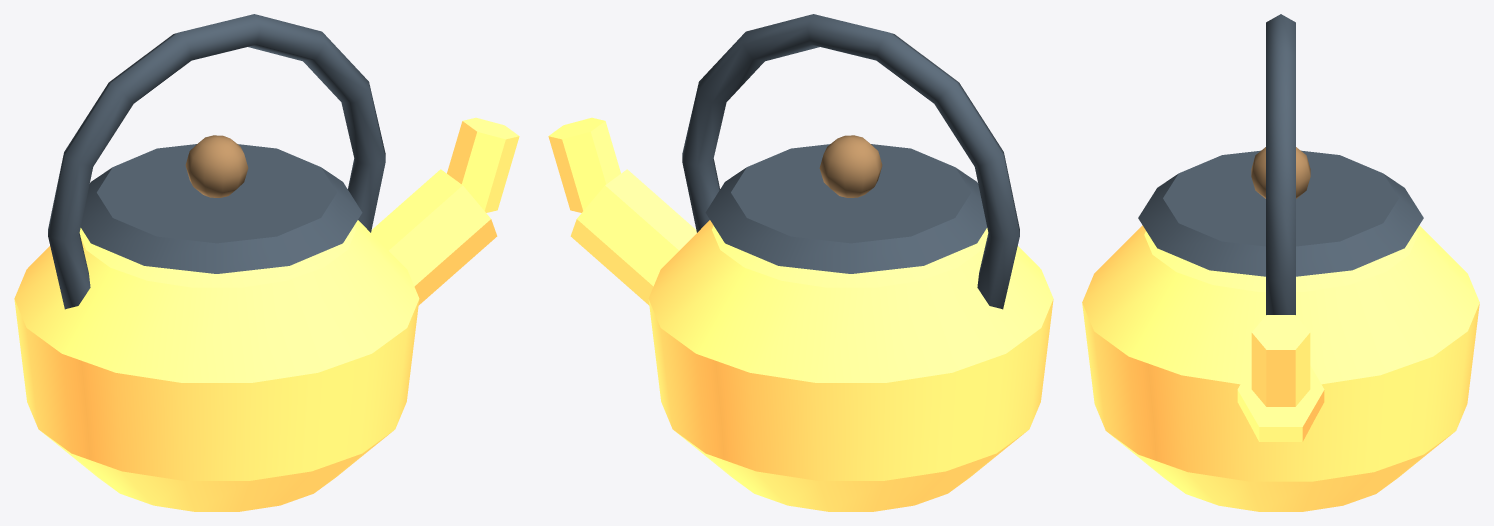
File: alpine-snow-village-brass-winter-teakettle-7e5b4164__19839.glb
3 renders of one model, left to right at view 1: azimuth 30°, elevation 25°; view 2: azimuth 150°, elevation 25°; view 3: azimuth 270°, elevation 25°, orthographic.
Parts seen in each view (by area): view 1: brass-winter-teakettle-amber, brass-winter-teakettle-iron, brass-winter-teakettle-oak; view 2: brass-winter-teakettle-amber, brass-winter-teakettle-iron, brass-winter-teakettle-oak; view 3: brass-winter-teakettle-amber, brass-winter-teakettle-iron, brass-winter-teakettle-oak.
Part boxes in pixels (x1,y1,x2,y2): brass-winter-teakettle-amber: (14, 117, 519, 511); brass-winter-teakettle-iron: (48, 14, 385, 309); brass-winter-teakettle-oak: (185, 135, 248, 197); brass-winter-teakettle-amber: (548, 117, 1053, 511); brass-winter-teakettle-iron: (682, 14, 1019, 309); brass-winter-teakettle-oak: (819, 135, 882, 197); brass-winter-teakettle-amber: (1082, 225, 1479, 511); brass-winter-teakettle-iron: (1138, 14, 1423, 314); brass-winter-teakettle-oak: (1251, 147, 1310, 198).
Size of the model in its own units: 0.8538 by 0.7603 by 0.64.
